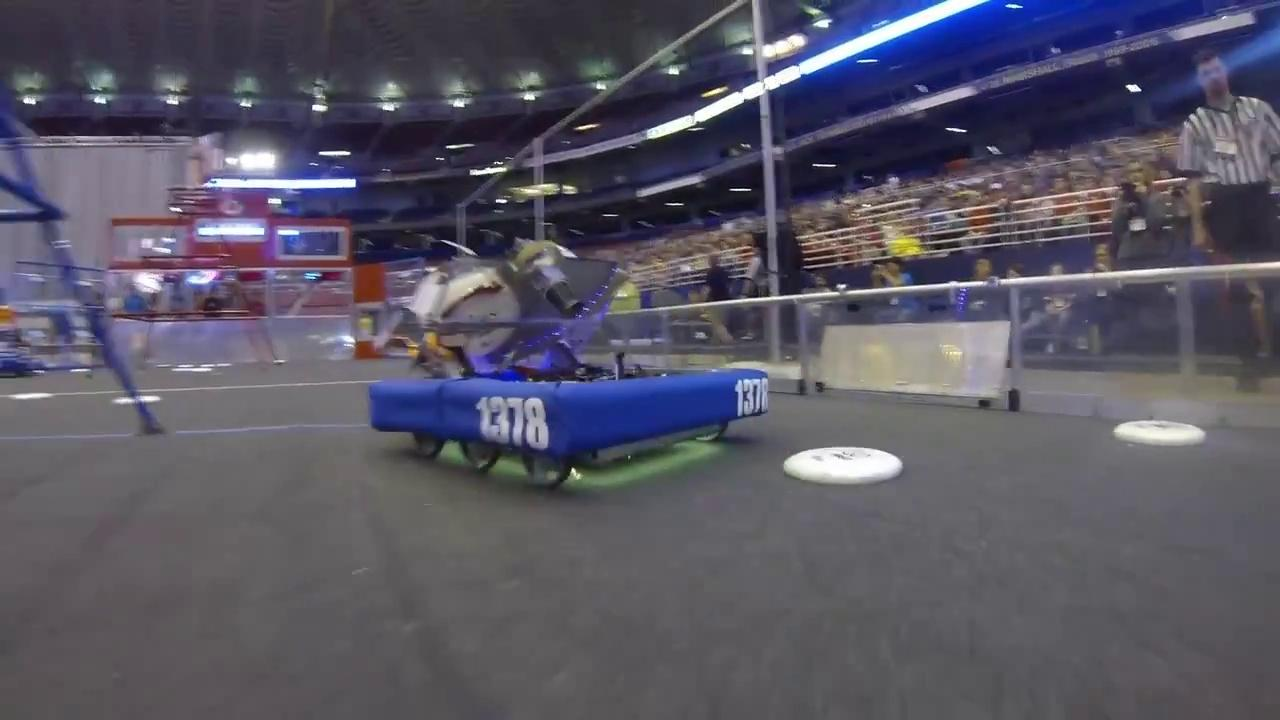robot: (361, 237, 774, 498)
